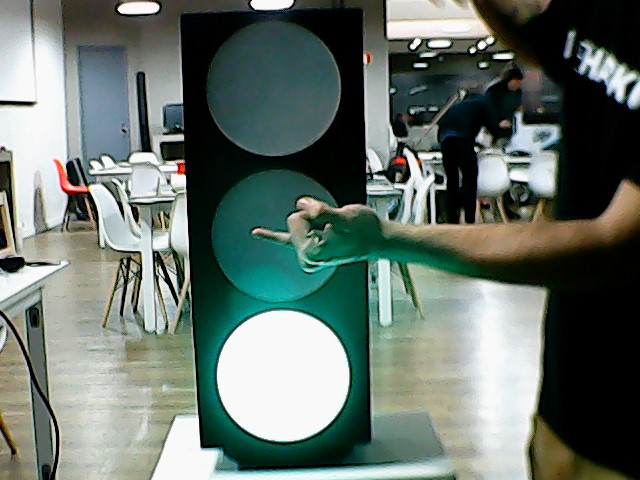verde: (144, 14, 399, 452)
